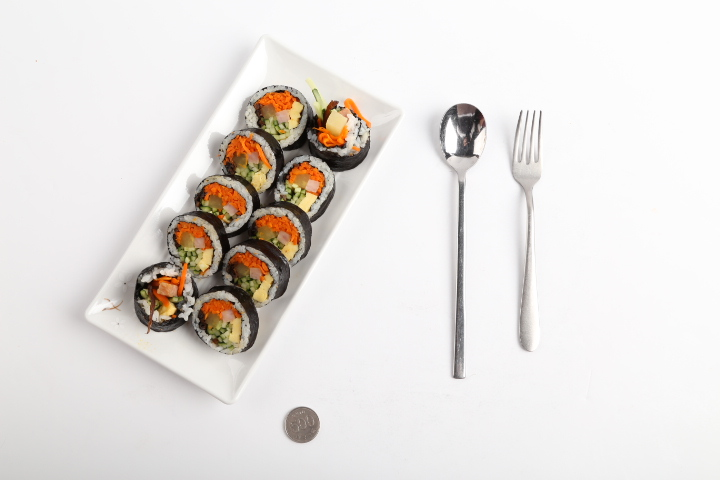dish: (86, 35, 401, 404)
ref_coin: (285, 406, 320, 443)
ref_fork: (511, 109, 542, 191)
ref_spoon: (439, 103, 486, 178)
김밥: (134, 83, 371, 354)
